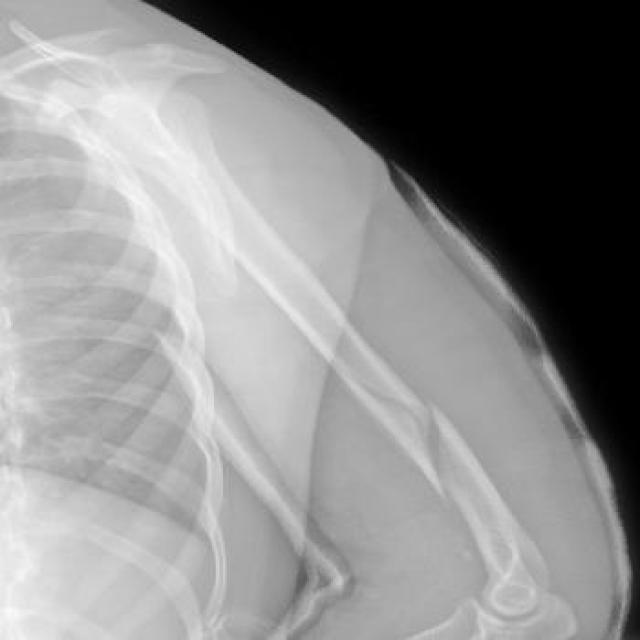Fracture: (400, 400, 461, 498)
